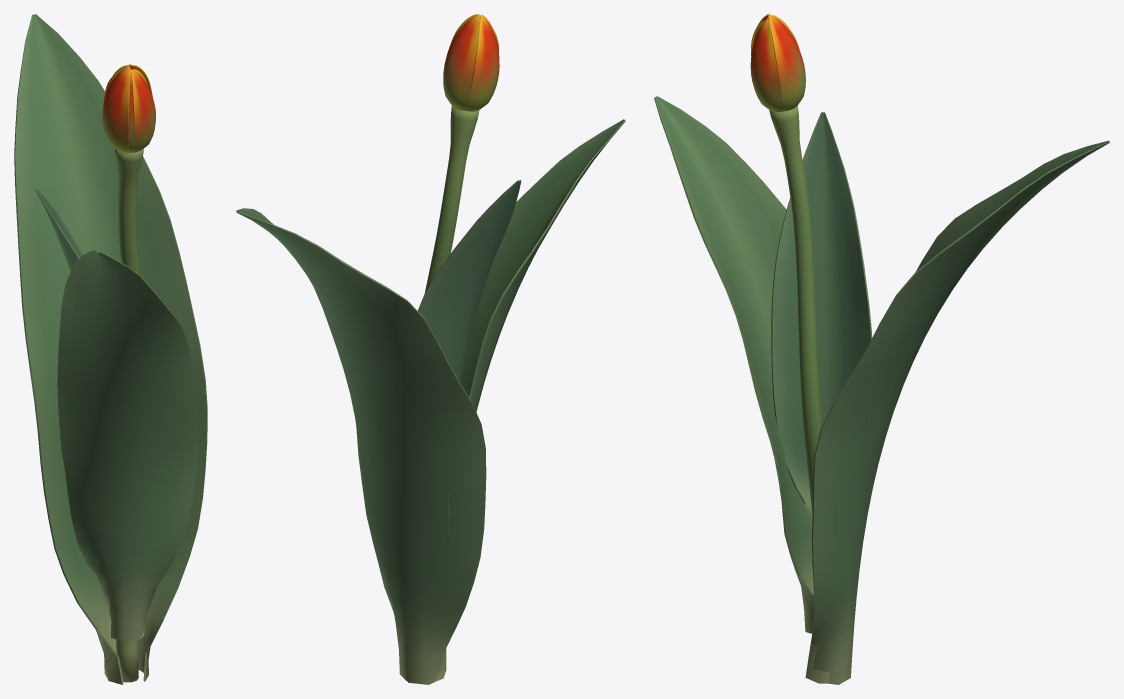
File: bud-flame.glb
The picture shows the model from 3 angles, left to right: view 1: azimuth 30°, elevation 25°; view 2: azimuth 150°, elevation 25°; view 3: azimuth 270°, elevation 25°; orthographic projection.
Parts seen in each view (by area): view 1: tulip-bud-flame; view 2: tulip-bud-flame; view 3: tulip-bud-flame.
Part boxes in pixels (<box>): tulip-bud-flame: <box>14,14,207,684</box>; tulip-bud-flame: <box>236,14,625,684</box>; tulip-bud-flame: <box>654,14,1109,684</box>.
Size of the model in its own units: 0.0818 by 0.2569 by 0.1636.
